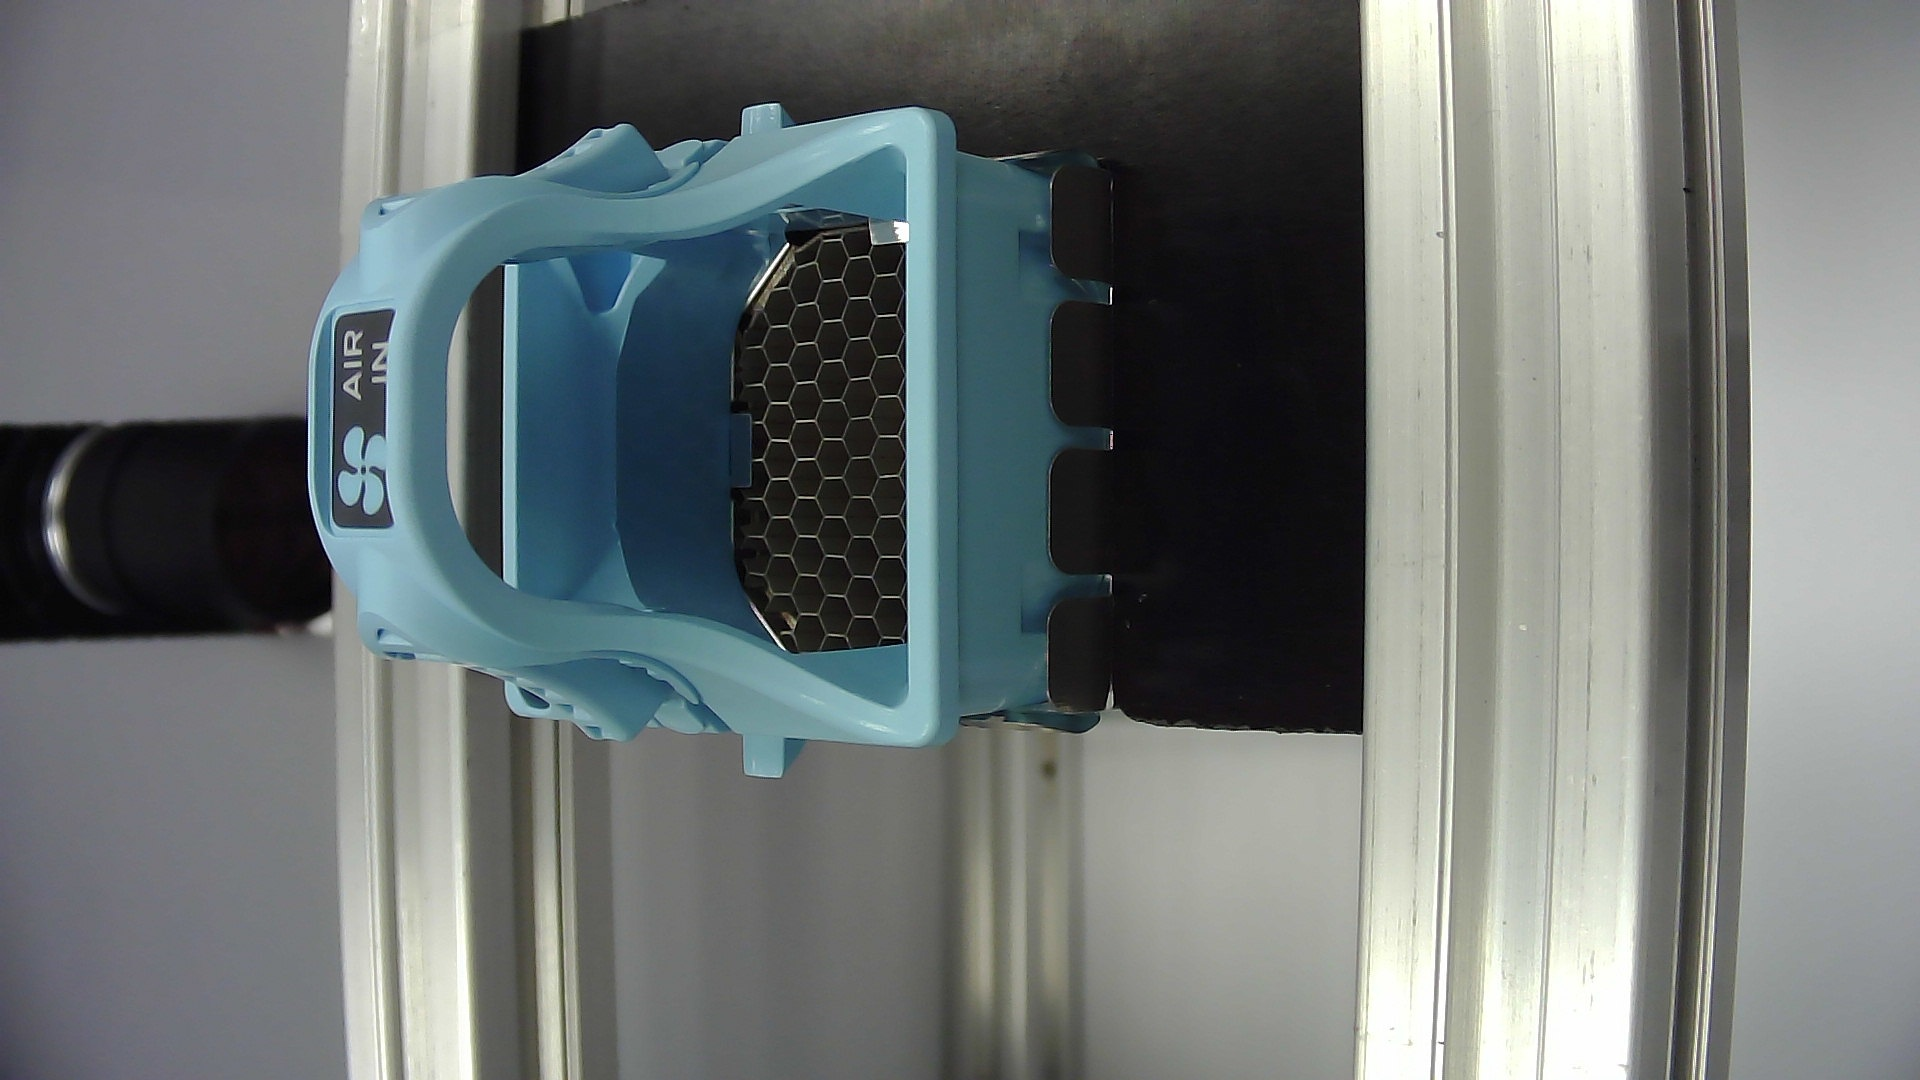1_1: (781, 280, 884, 626)
